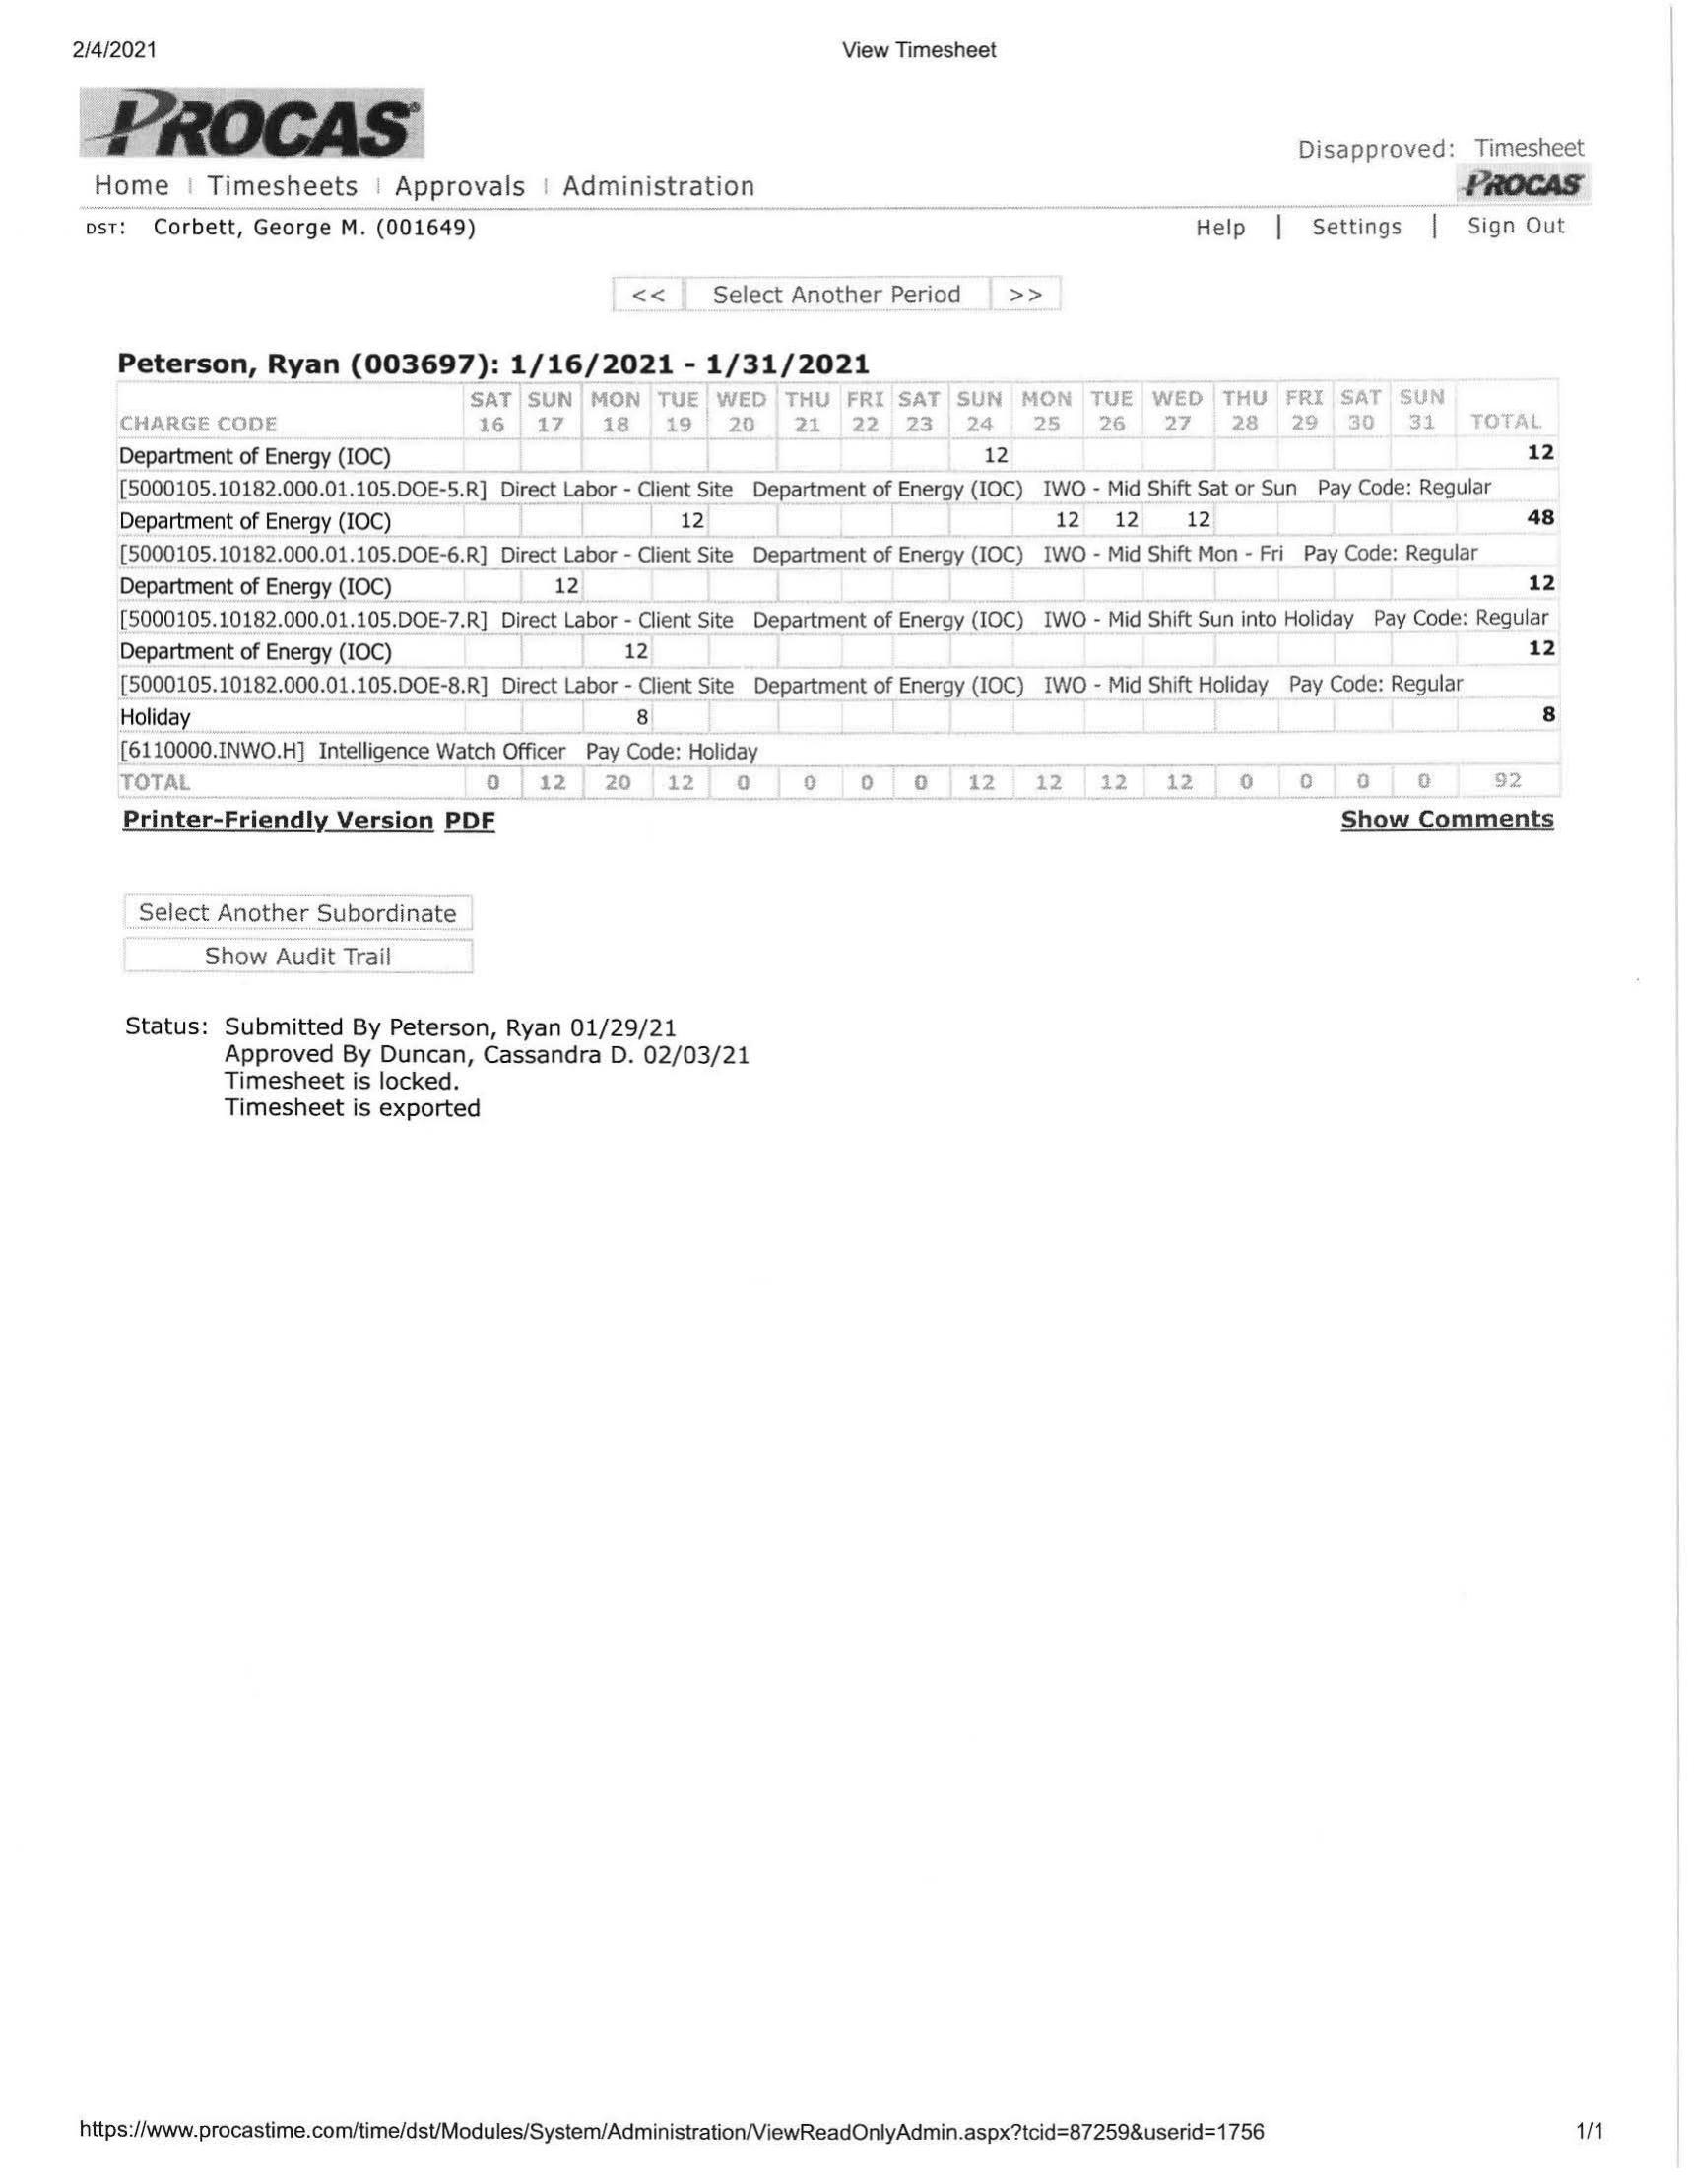table: (113, 381, 1567, 792)
